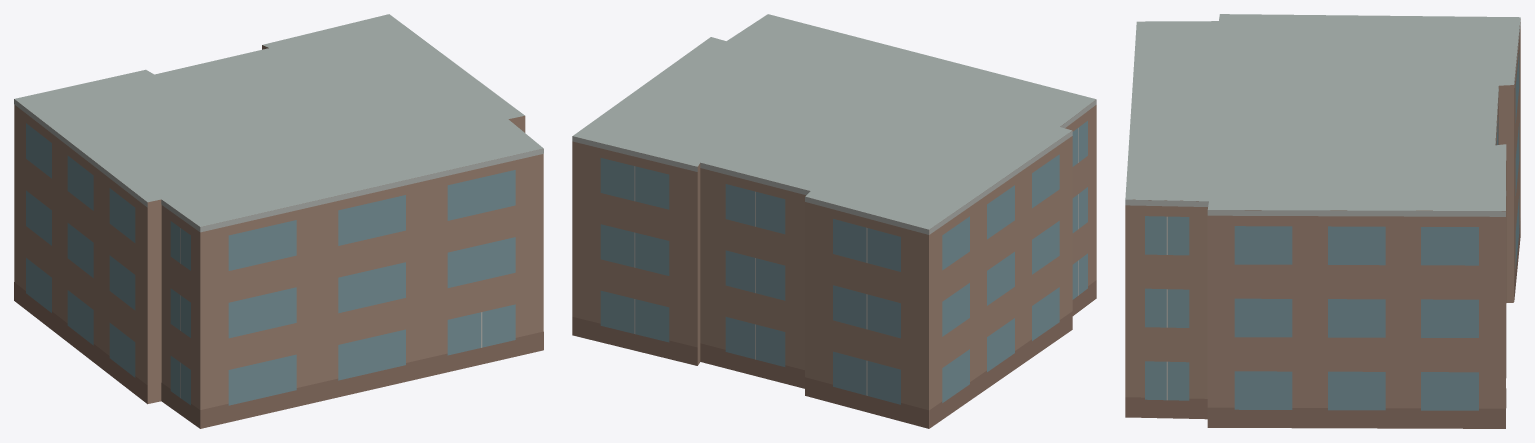
Rendered from survey-upis-32546991.glb.
The picture shows the model from 3 angles, left to right: view 1: azimuth 30°, elevation 25°; view 2: azimuth 150°, elevation 25°; view 3: azimuth 270°, elevation 25°; orthographic projection. The views are drawn at different scales.
Parts seen in each view (by area): view 1: survey-upis-32546991.tmp; view 2: survey-upis-32546991.tmp; view 3: survey-upis-32546991.tmp.
Part boxes in pixels (x1,y1,x2,y2): survey-upis-32546991.tmp: [14, 14, 543, 428]; survey-upis-32546991.tmp: [572, 14, 1096, 428]; survey-upis-32546991.tmp: [1125, 14, 1520, 428].
Size of the model in its own units: 17.76 by 9.15 by 15.06.
